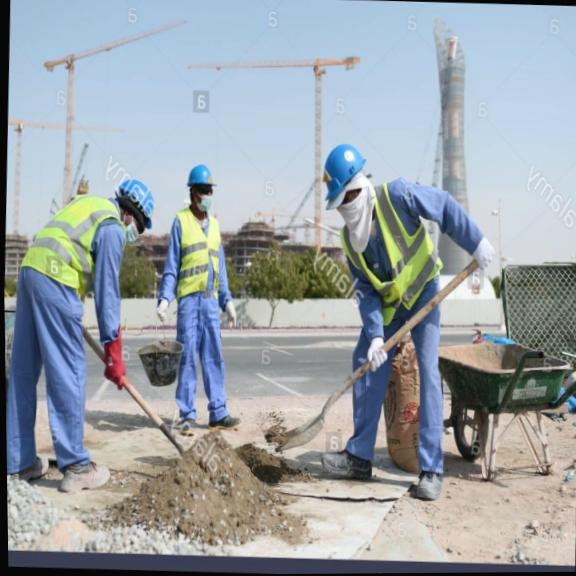safety_vest: (351, 180, 433, 311), (21, 197, 119, 284), (177, 211, 221, 300)
